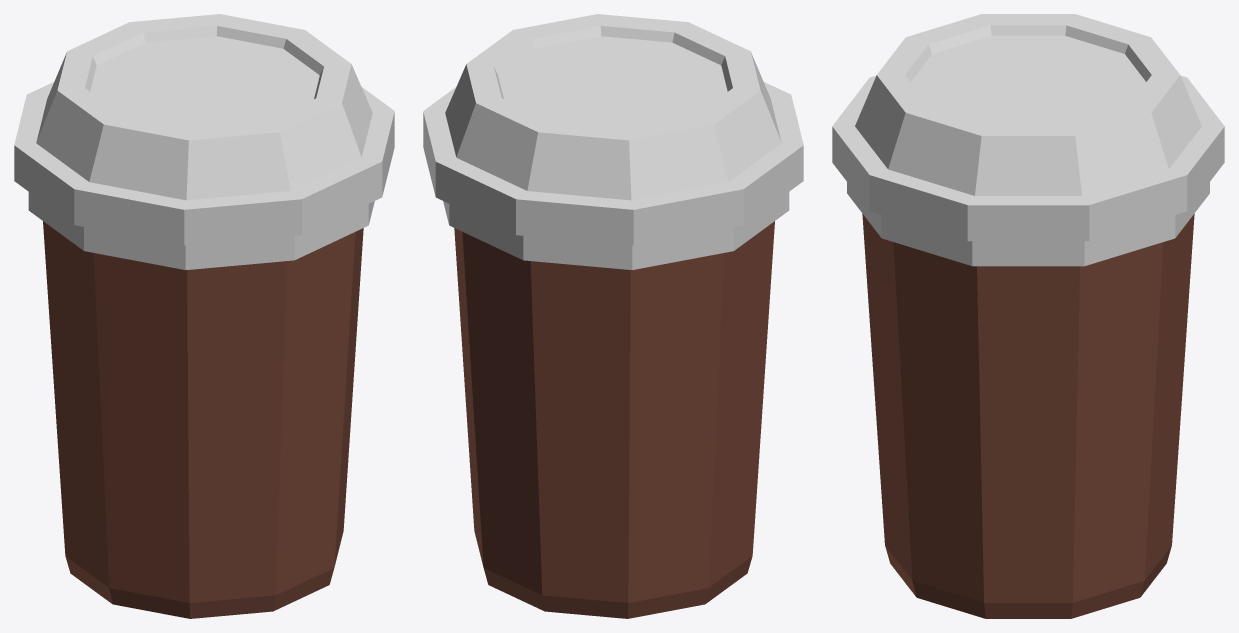
Rendered from coffee.fbx.
The picture shows the model from 3 angles, left to right: view 1: azimuth 30°, elevation 25°; view 2: azimuth 150°, elevation 25°; view 3: azimuth 270°, elevation 25°; orthographic projection.
Visible parts, largest first — view 1: huitugou_2024_100, huitugou_2024_101; view 2: huitugou_2024_100, huitugou_2024_101; view 3: huitugou_2024_100, huitugou_2024_101.
Part boxes in pixels (box(x1,y1,x2,y2)): huitugou_2024_100: box(43, 221, 363, 618); huitugou_2024_101: box(14, 14, 394, 269); huitugou_2024_100: box(454, 221, 774, 618); huitugou_2024_101: box(423, 14, 803, 269); huitugou_2024_100: box(862, 214, 1194, 618); huitugou_2024_101: box(832, 14, 1224, 266).
Size of the model in its own units: 9.64 by 13.92 by 10.14.
